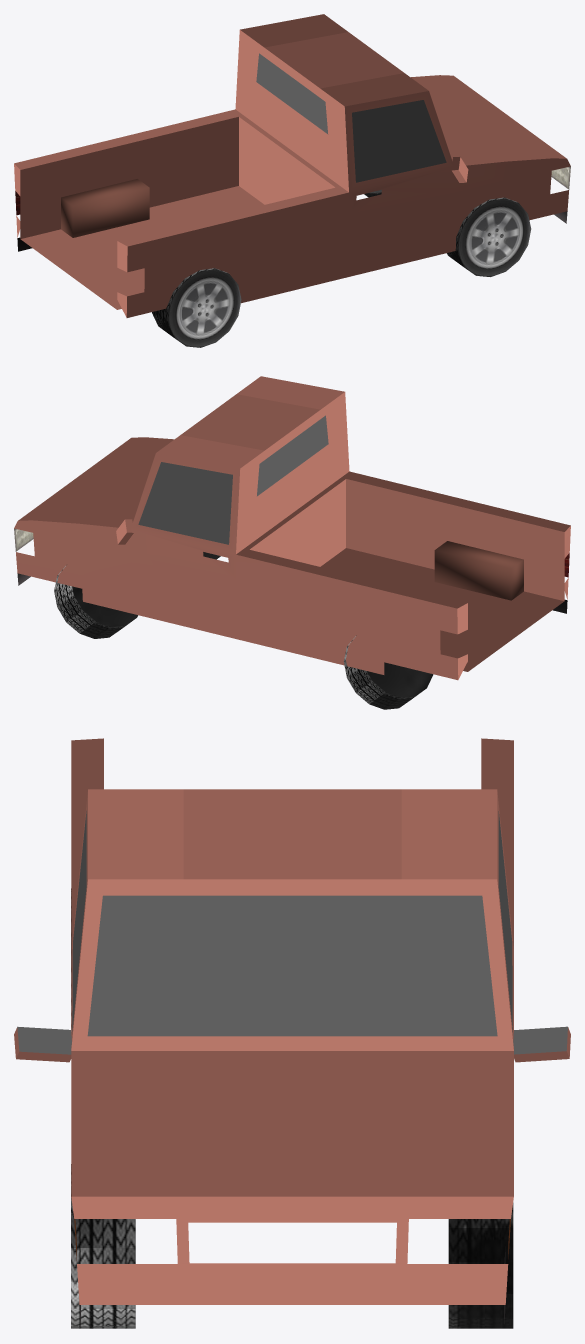
File: pickup.gltf
The picture shows the model from 3 angles, top to bottom: view 1: azimuth 30°, elevation 25°; view 2: azimuth 150°, elevation 25°; view 3: azimuth 270°, elevation 25°; orthographic projection. The views are drawn at different scales.
Parts seen in each view (by area): view 1: Body1, WheelRL012, WheelRL011, Box002; view 2: Body1, Box001, WheelRL014, WheelRL013; view 3: Body1, WheelRL013, WheelRL011, pCube3, pCube2.
Boxes of the visible parts, x1,y1,x2,y2 form: Body1: (14, 14, 570, 317); WheelRL012: (152, 268, 241, 347); WheelRL011: (447, 197, 531, 277); Box002: (61, 179, 149, 237); Body1: (14, 376, 570, 680); Box001: (434, 541, 523, 600); WheelRL014: (343, 635, 433, 709); WheelRL013: (54, 565, 137, 638); Body1: (71, 738, 513, 1325); WheelRL013: (448, 1203, 513, 1328); WheelRL011: (71, 1164, 135, 1328); pCube3: (14, 1026, 71, 1062); pCube2: (513, 1026, 570, 1062).
Size of the model in its own units: 1.24 by 0.535 by 0.686.
7 materials, 4 textured.
